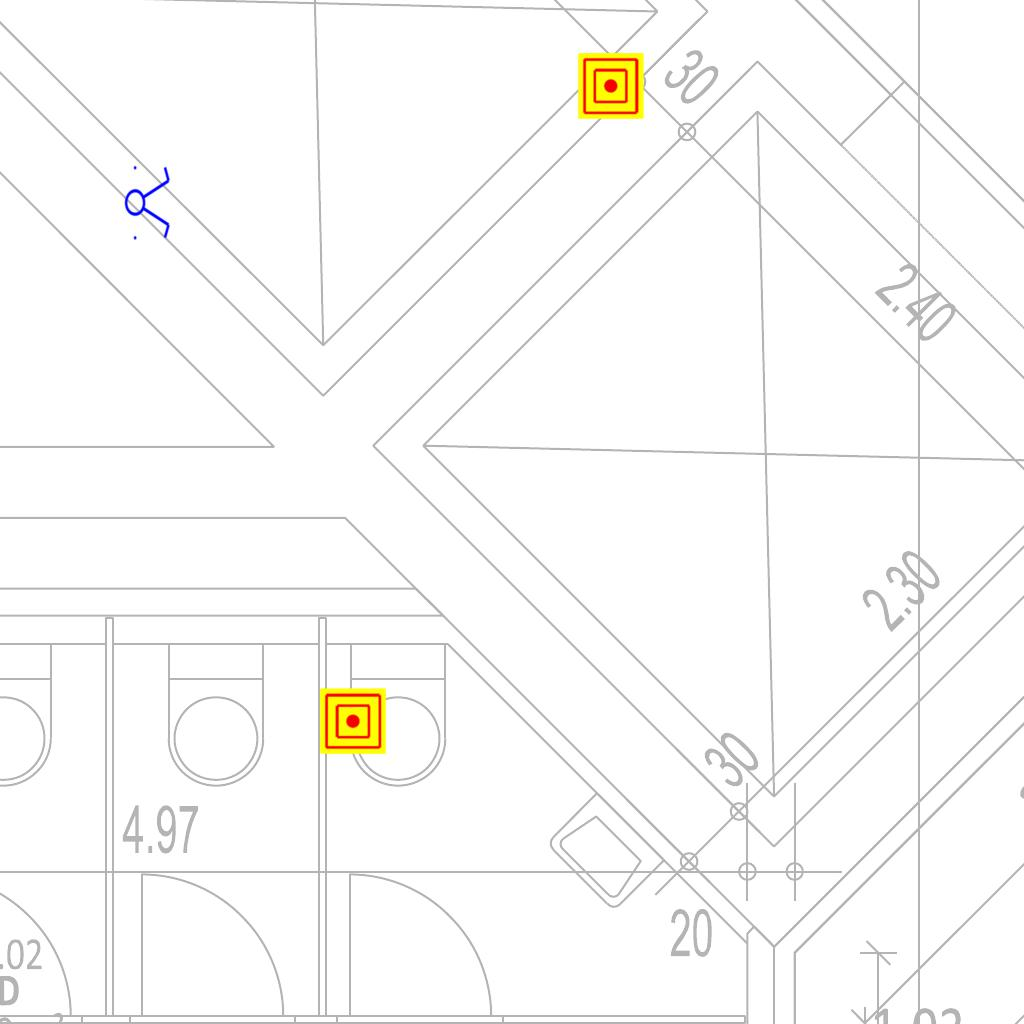NAM-Nichtautomatischer_Melder: (320, 688, 386, 754), (578, 53, 644, 119)
Serienschalter: (124, 160, 172, 244)
